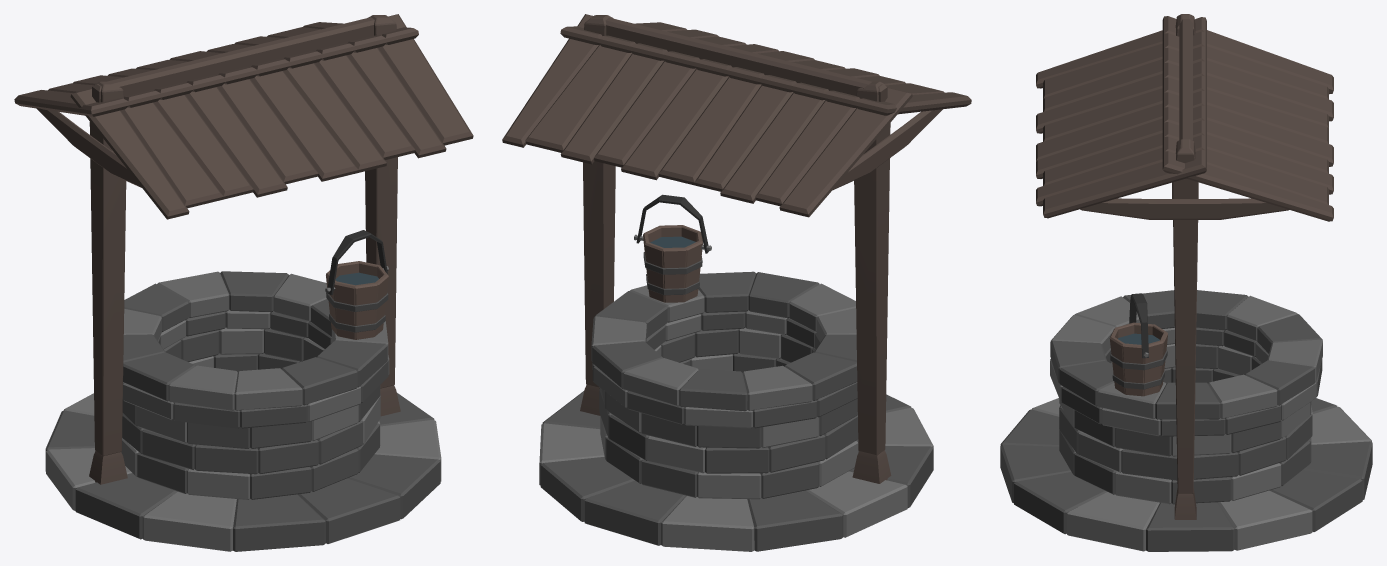
The model's file is props_91.glb.
The picture shows the model from 3 angles, left to right: view 1: azimuth 30°, elevation 25°; view 2: azimuth 150°, elevation 25°; view 3: azimuth 270°, elevation 25°; orthographic projection. The views are drawn at different scales.
Parts seen in each view (by area): view 1: props_91; view 2: props_91; view 3: props_91.
Boxes of the visible parts, x1,y1,x2,y2 form: props_91: (14,14,473,551); props_91: (502,14,971,551); props_91: (1000,14,1372,551).
Bounding box in the file's own units: 2.87 × 3.38 × 2.88.
Materials: 1 (1 with a texture image).
